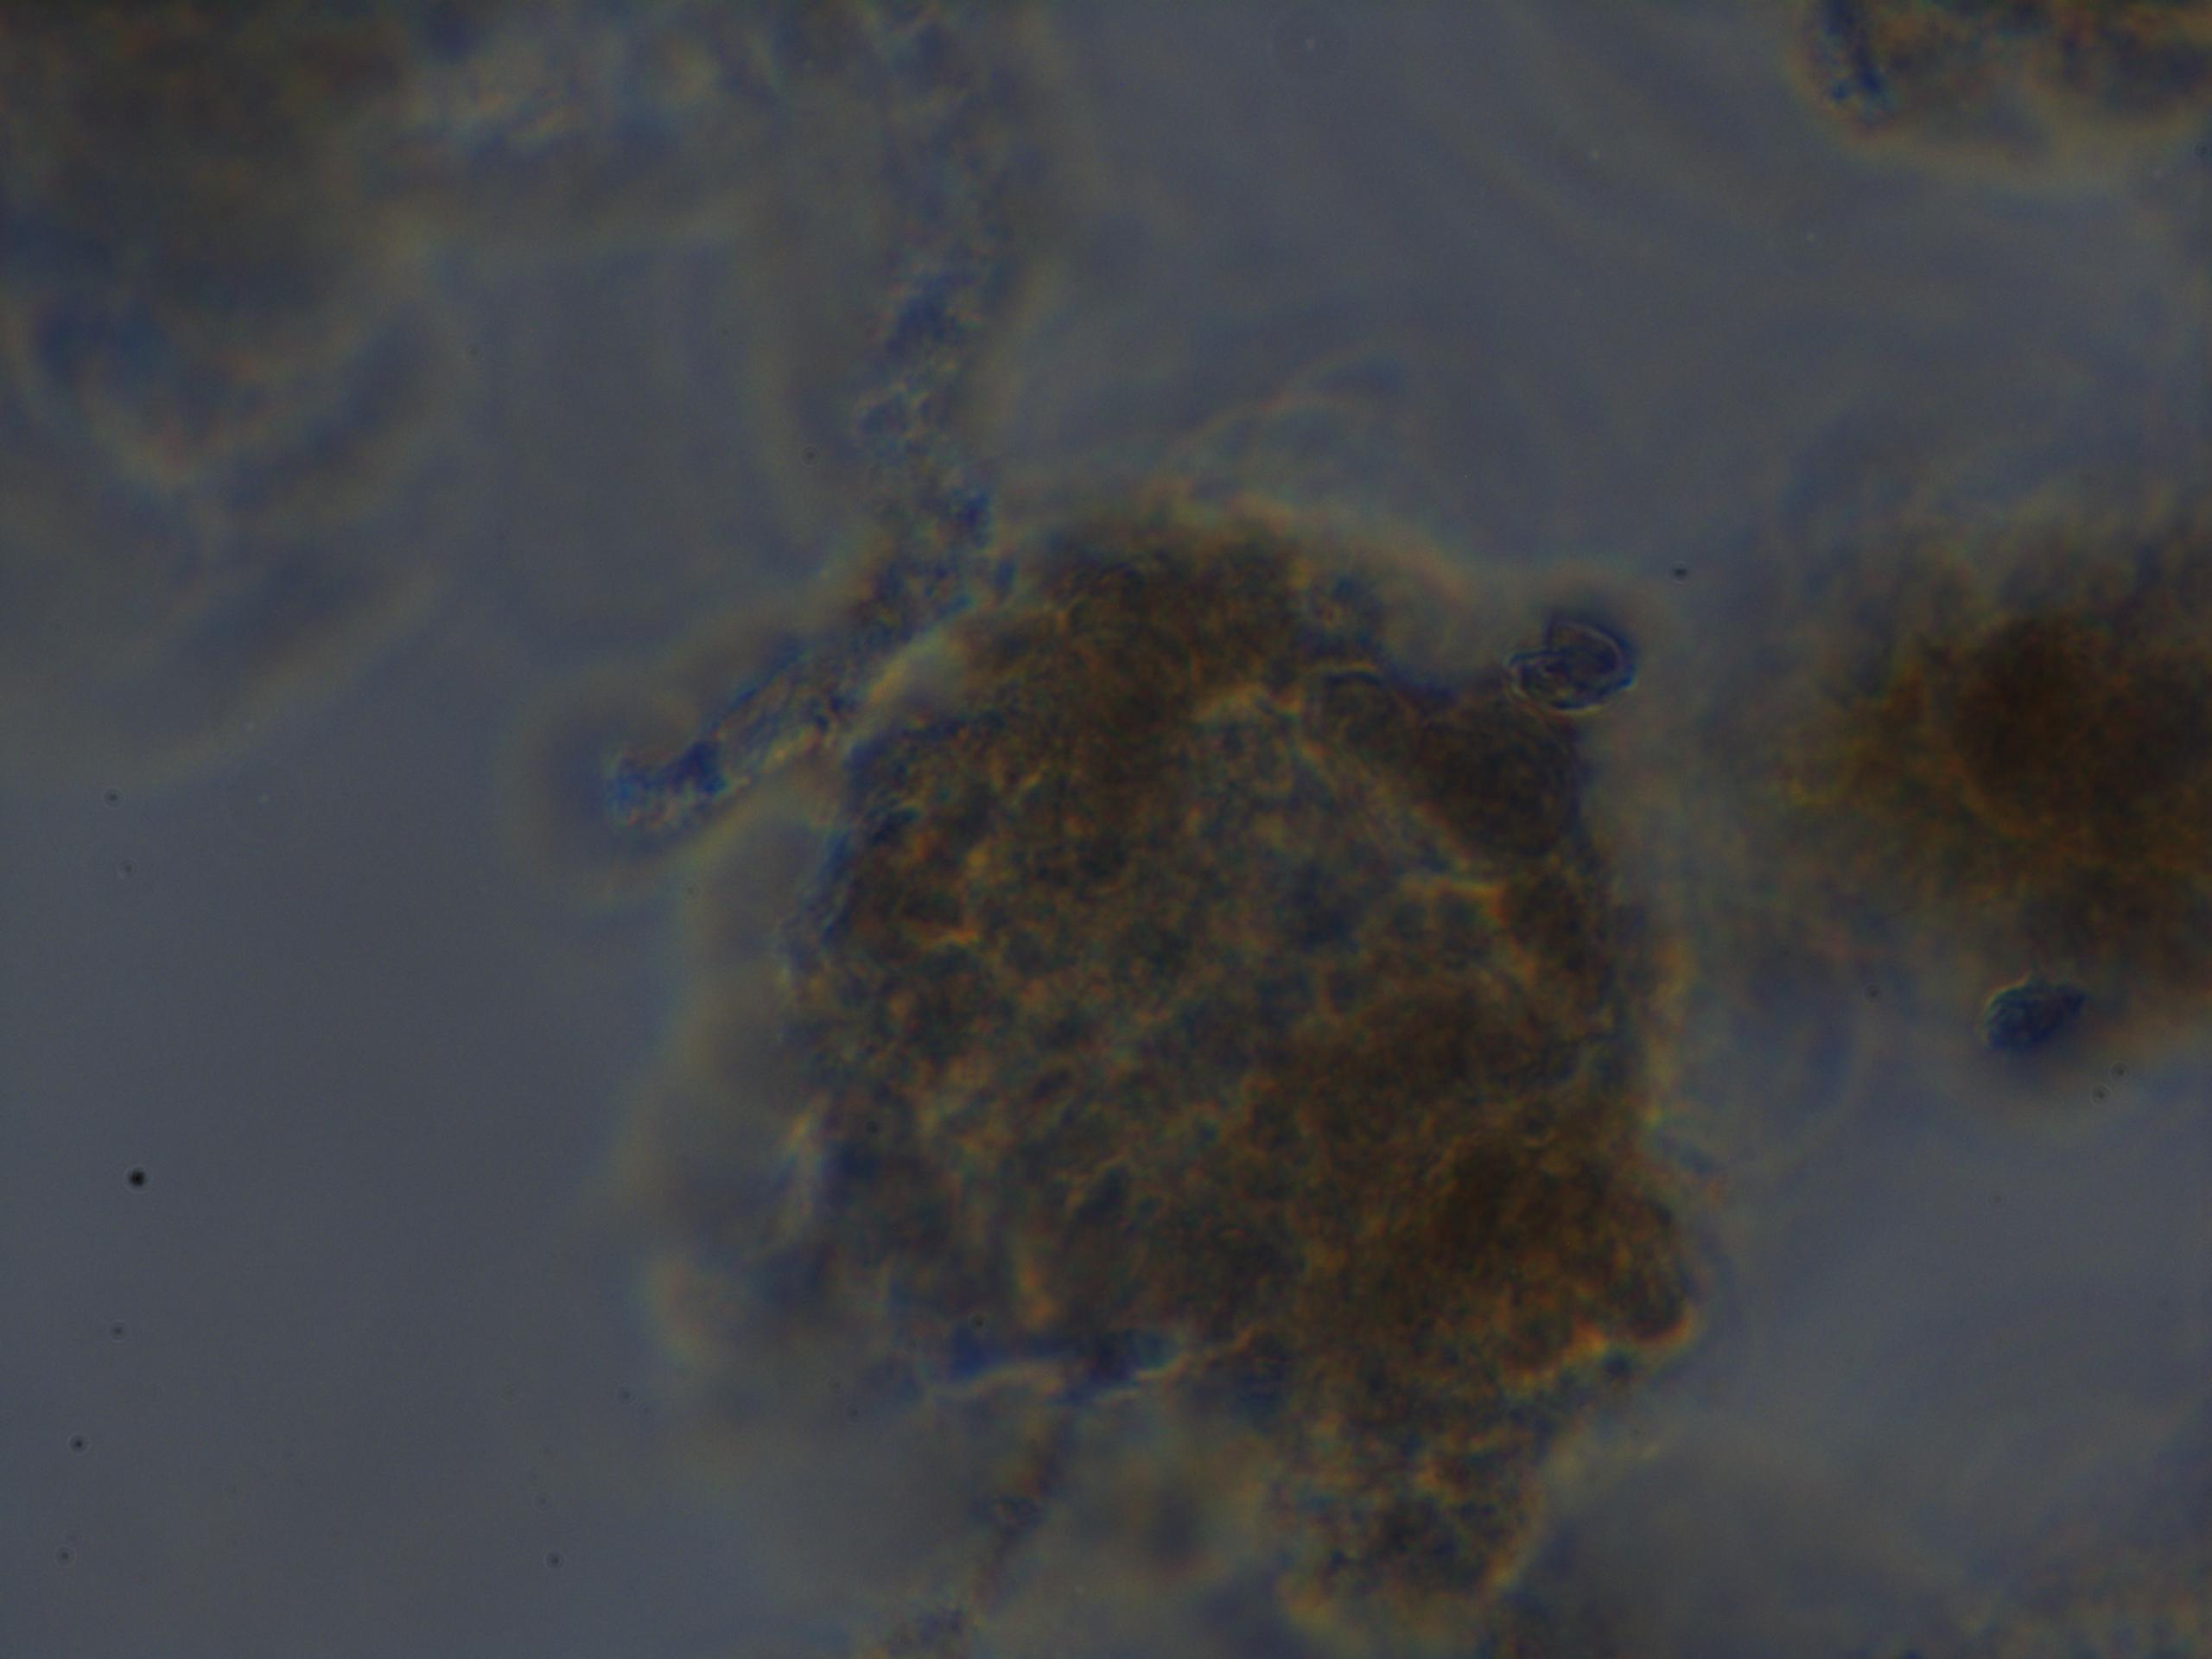spherical_floc: (770, 498, 1726, 1624)
